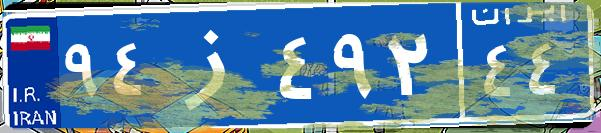2: (385, 28, 445, 110)
4: (273, 28, 330, 110), (475, 38, 525, 113), (110, 28, 158, 105), (525, 38, 570, 115)
9: (330, 28, 385, 110), (57, 26, 110, 107)
ز: (158, 15, 273, 115)
